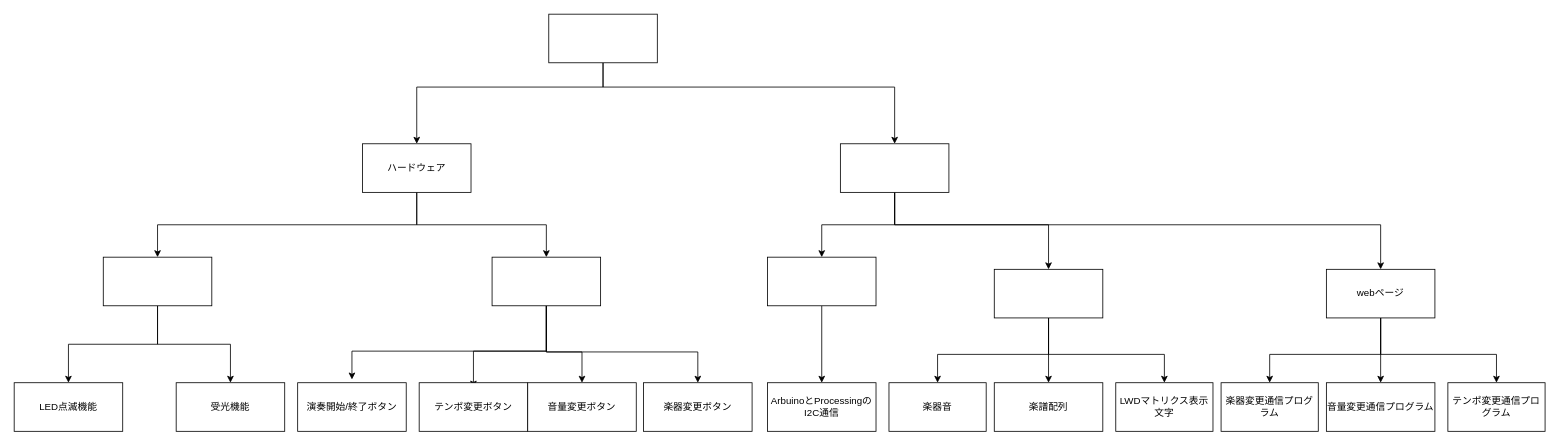
Some shapes in this 1559 by 446 pixel diagram are drawn without their labels. The shapes that lost their labels are listed below. From the top down, each one's centre as x and y in pixels, then its label:
[602,38]: LED同期演奏システム
[894,167]: ソフトウェア
[157,281]: 演奏同期機能
[546,281]: 演奏制御機能
[821,281]: 楽器再生
[1048,293]: データベース
